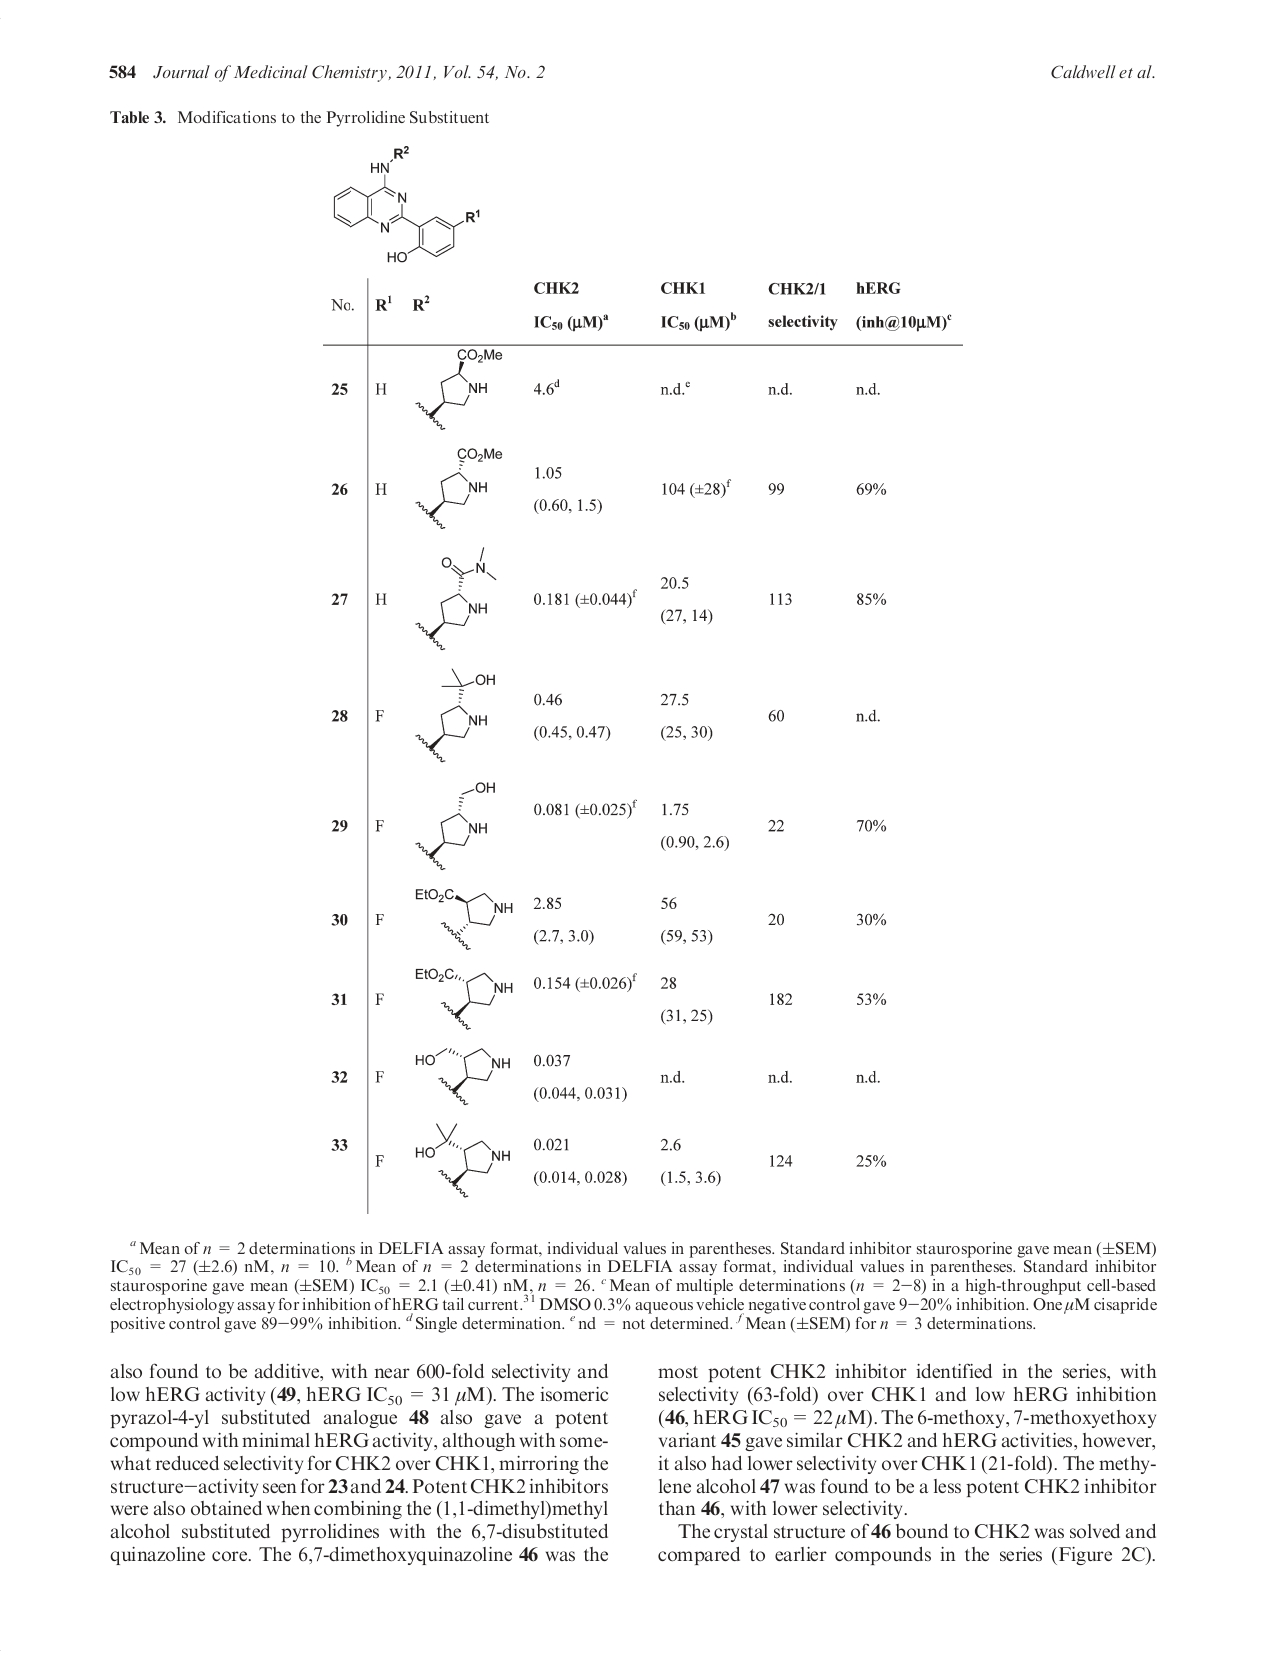exist_molecular: (328, 142, 485, 269), (411, 543, 500, 656), (410, 1117, 517, 1204), (410, 660, 496, 762), (415, 343, 507, 436), (410, 440, 501, 532), (412, 876, 519, 952), (416, 777, 497, 872), (410, 1040, 517, 1108), (410, 963, 516, 1031)
